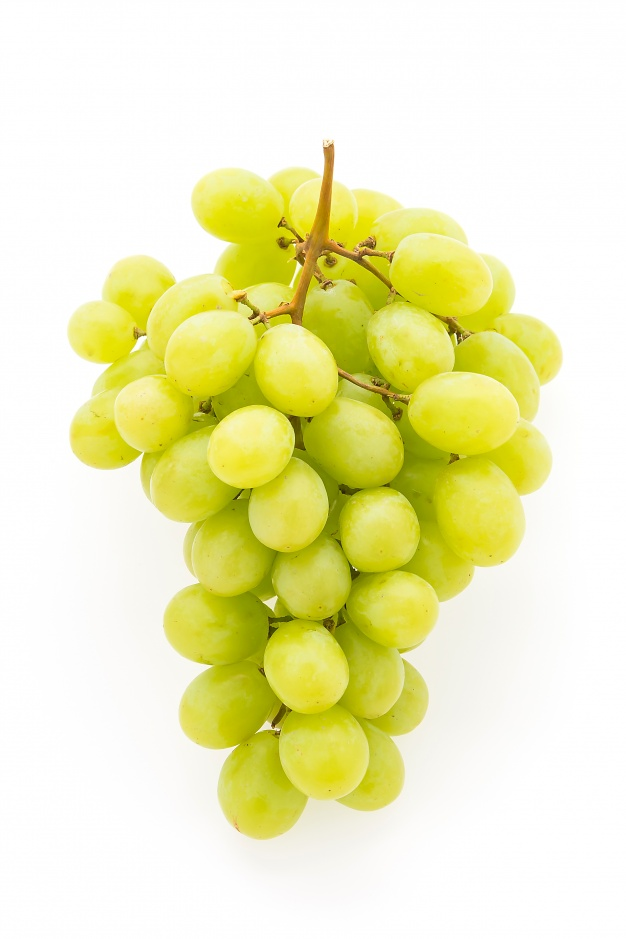Green grapes: (64, 158, 558, 839)
